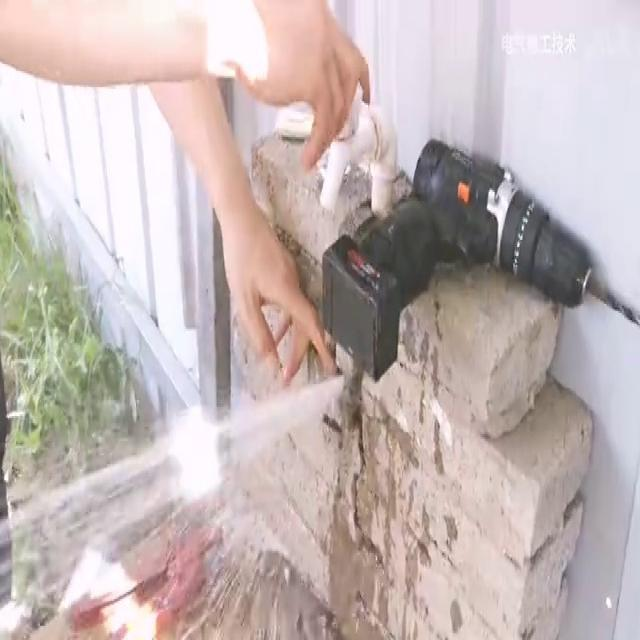leak: (0, 375, 345, 640)
